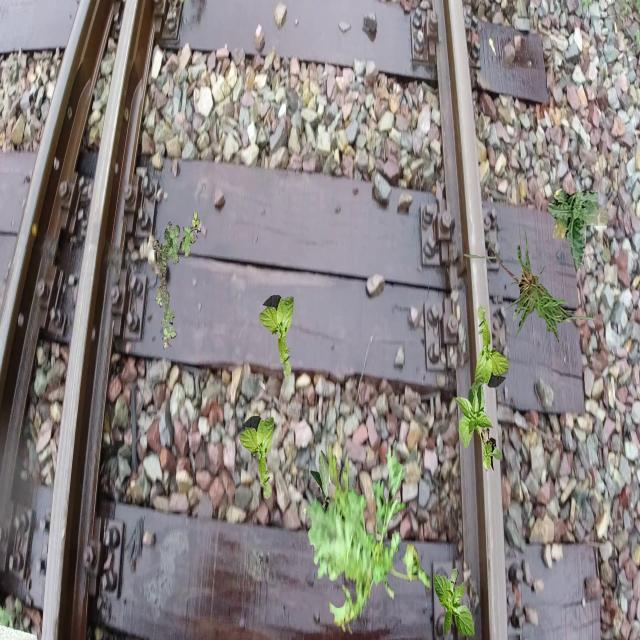Plant: (306, 439, 431, 635), (463, 224, 606, 344), (153, 212, 202, 350), (547, 189, 610, 272), (455, 379, 503, 474), (303, 450, 343, 560), (434, 568, 476, 639), (259, 295, 294, 378), (475, 305, 510, 388), (239, 415, 274, 498)
